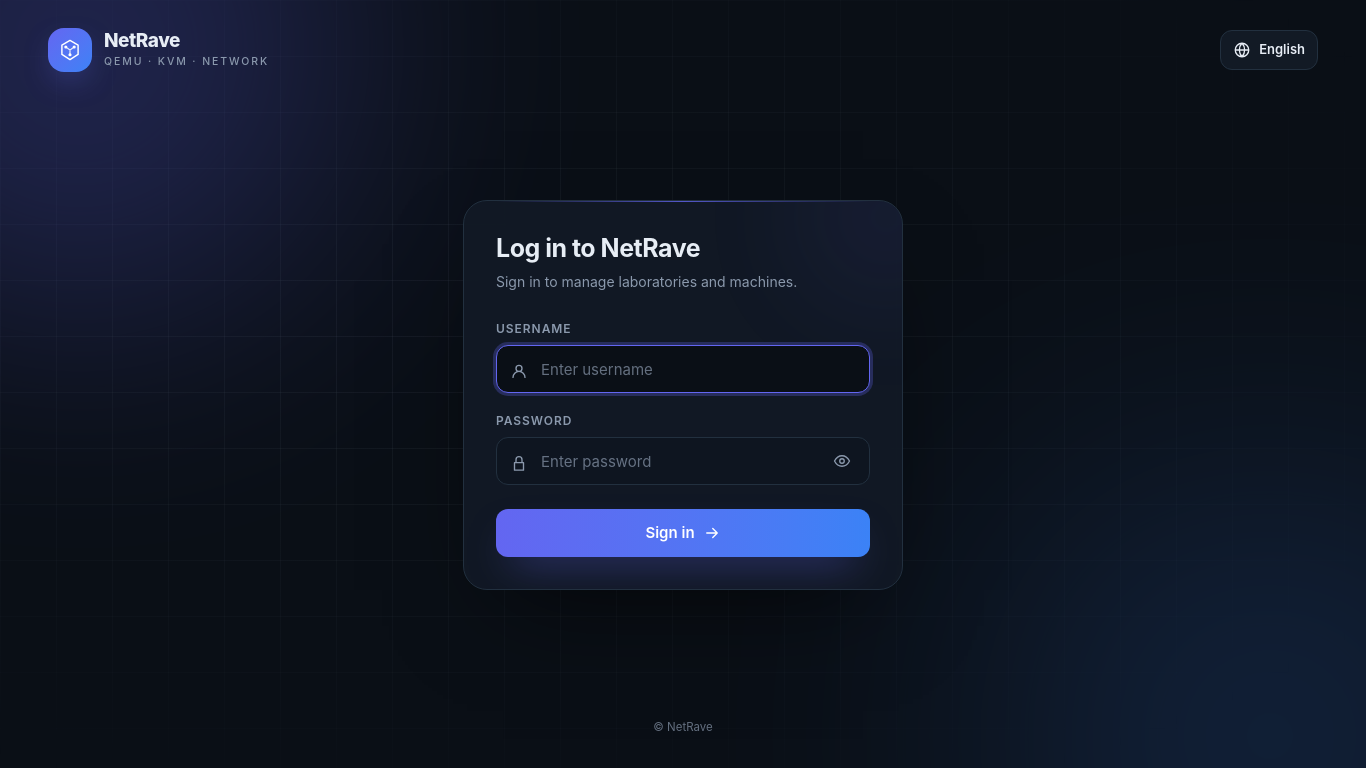
Test: LoginPage › submits credentials and clears the error while typing
Later steps or results of the test are not shown.
Click the button "Sign in" at x=683, y=533, box x1=496 y1=509 x2=870 y2=557
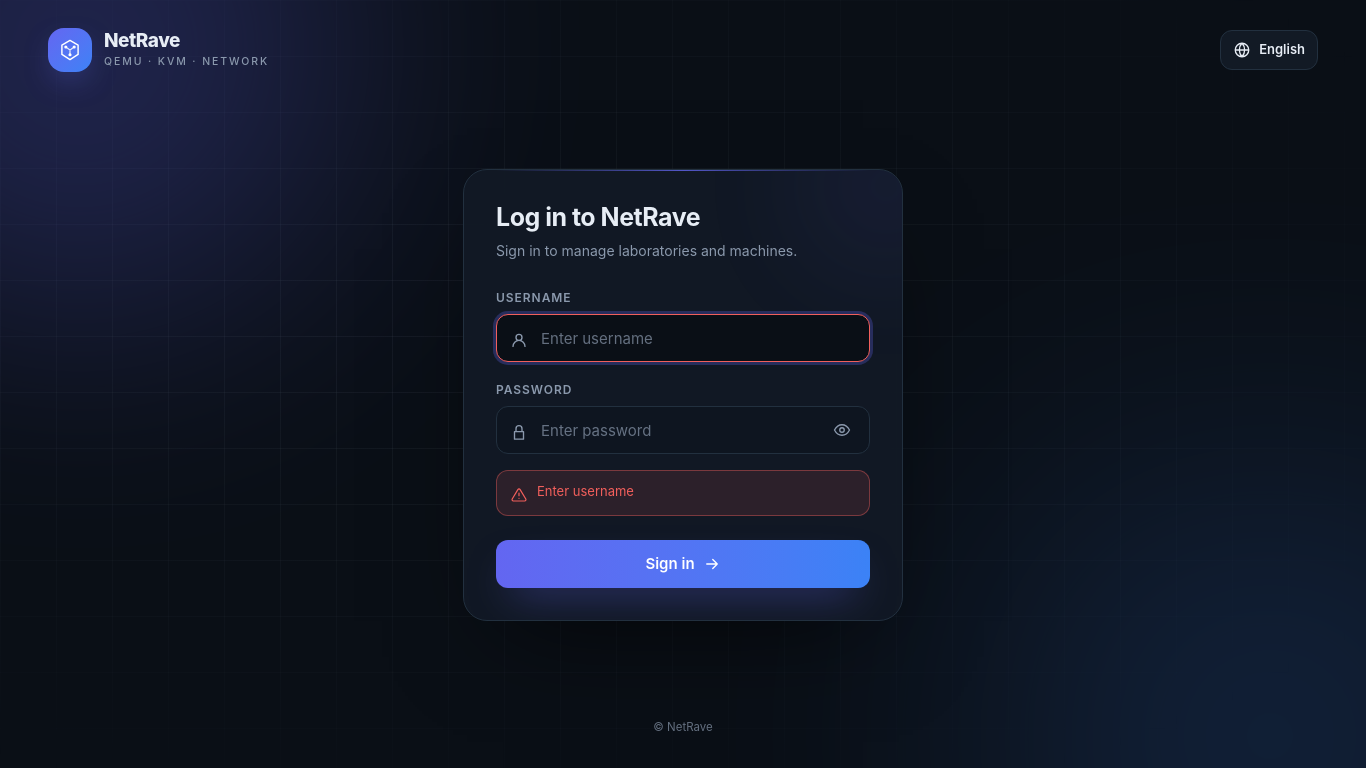
expect the message "Enter username" is shown: met, box x1=496 y1=470 x2=870 y2=516
Type "admin" into the field labelled "Username" at x=683, y=338, box x1=496 y1=314 x2=870 y2=362
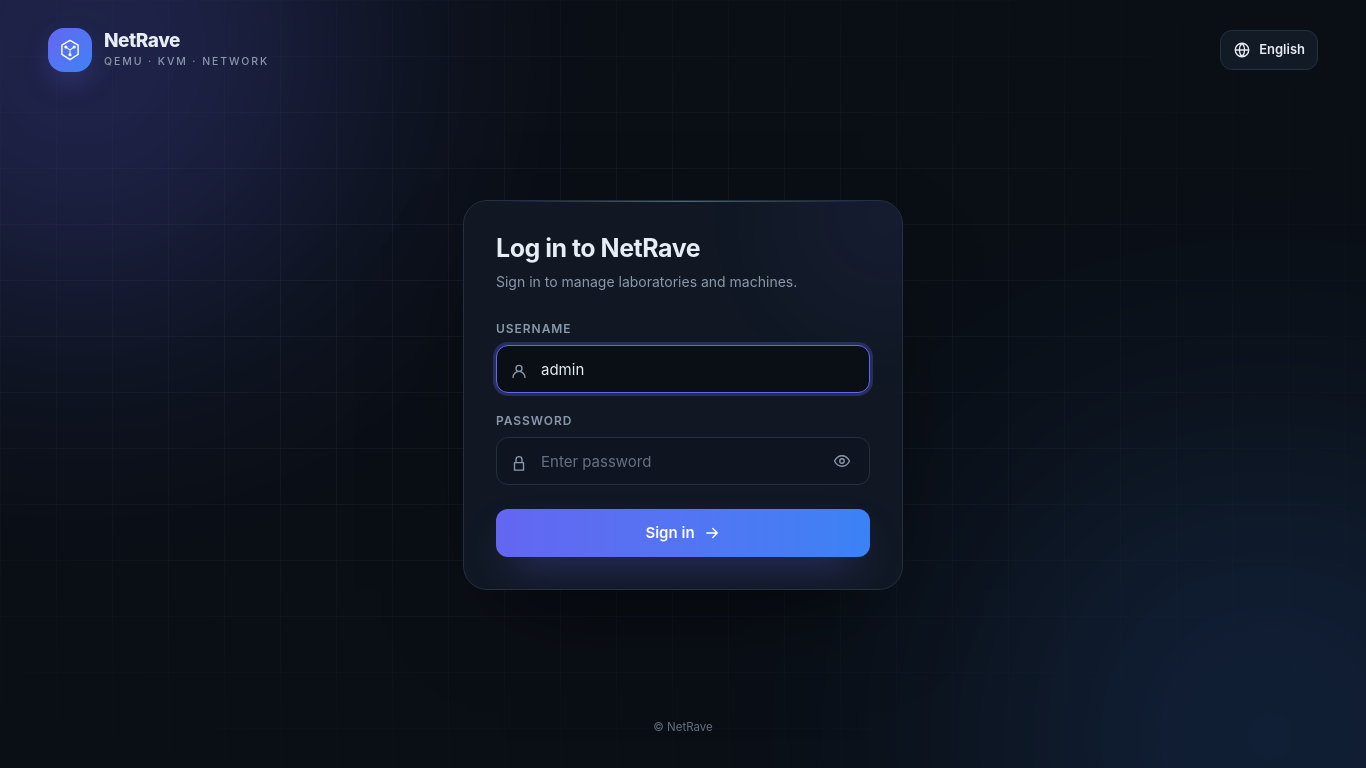
expect the message "Enter username" is gone: met
